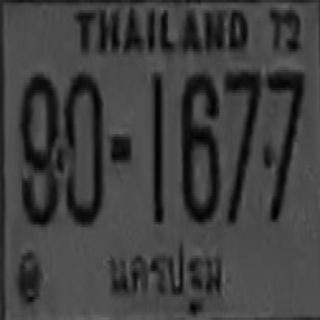N00: (66, 71, 103, 223)
N01: (152, 72, 162, 222)
N06: (180, 70, 217, 219)
N07: (262, 68, 303, 218), (224, 67, 259, 222), (224, 67, 259, 204)
N09: (22, 70, 61, 224)
P28: (108, 236, 225, 316)
